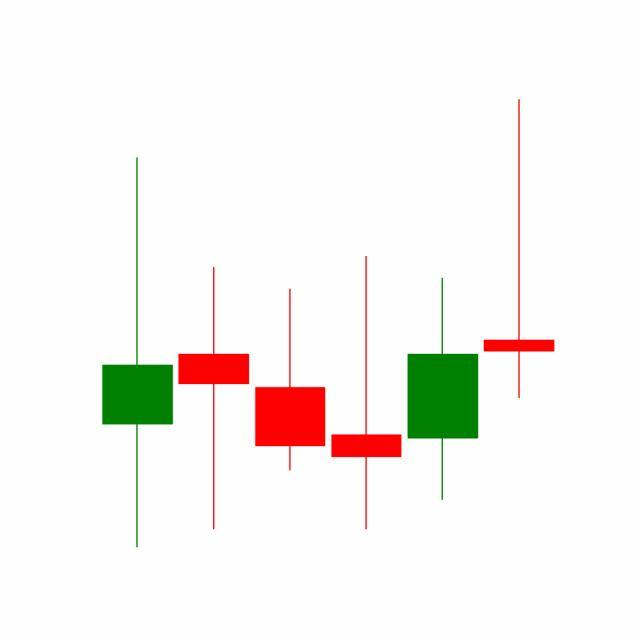Hikkake Pattern: (175, 100, 555, 535)
